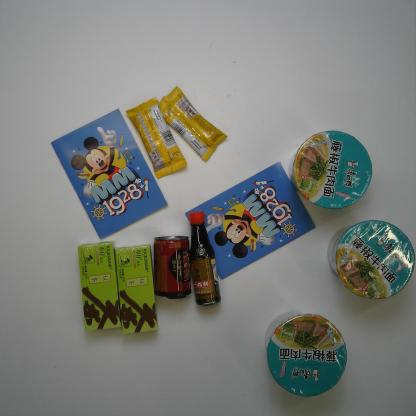Canned Food: (153, 234, 192, 300)
Chocolate: (158, 86, 228, 164), (124, 96, 188, 178)
Instant Drink: (114, 244, 160, 336), (77, 241, 121, 331)
Instant Noodles: (264, 310, 349, 398), (326, 220, 415, 300), (287, 129, 374, 210)
Seasoner: (187, 211, 221, 306)
Stationery: (51, 108, 169, 241), (184, 162, 316, 280)
